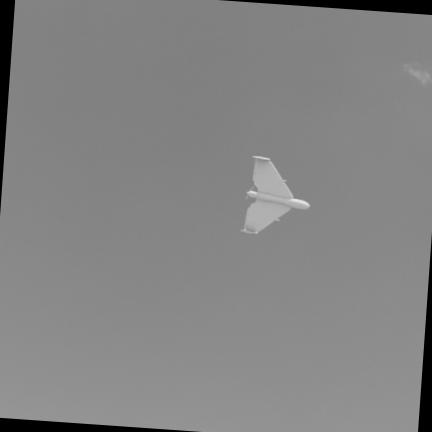Shahed: (241, 156, 309, 233)
